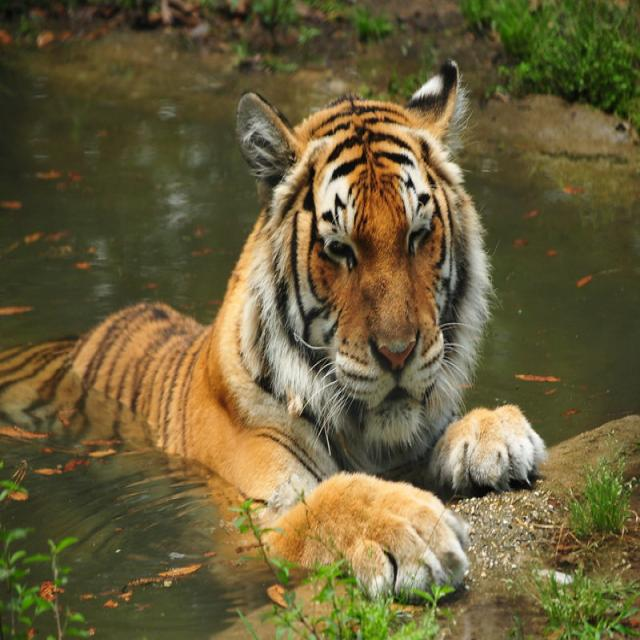Tiger: (22, 46, 544, 616)
